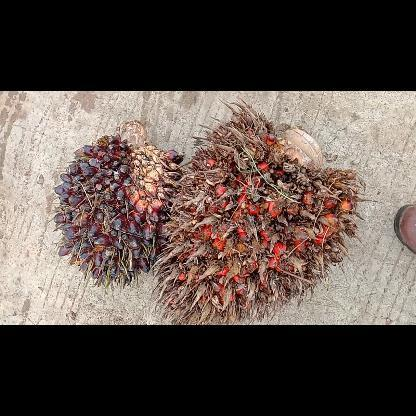TBS mentah: (49, 120, 185, 290)
Terlalu masak: (150, 98, 370, 324)
